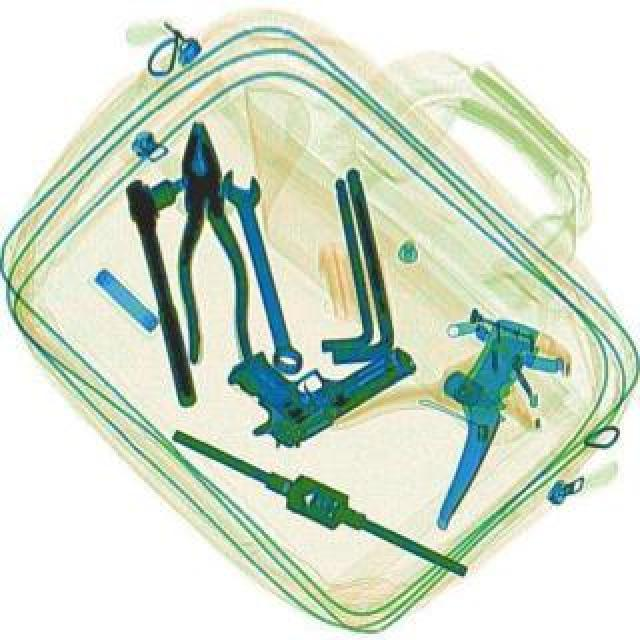gun: (210, 286, 422, 462)
scissors: (214, 164, 310, 376)
wrench: (164, 116, 256, 366)
